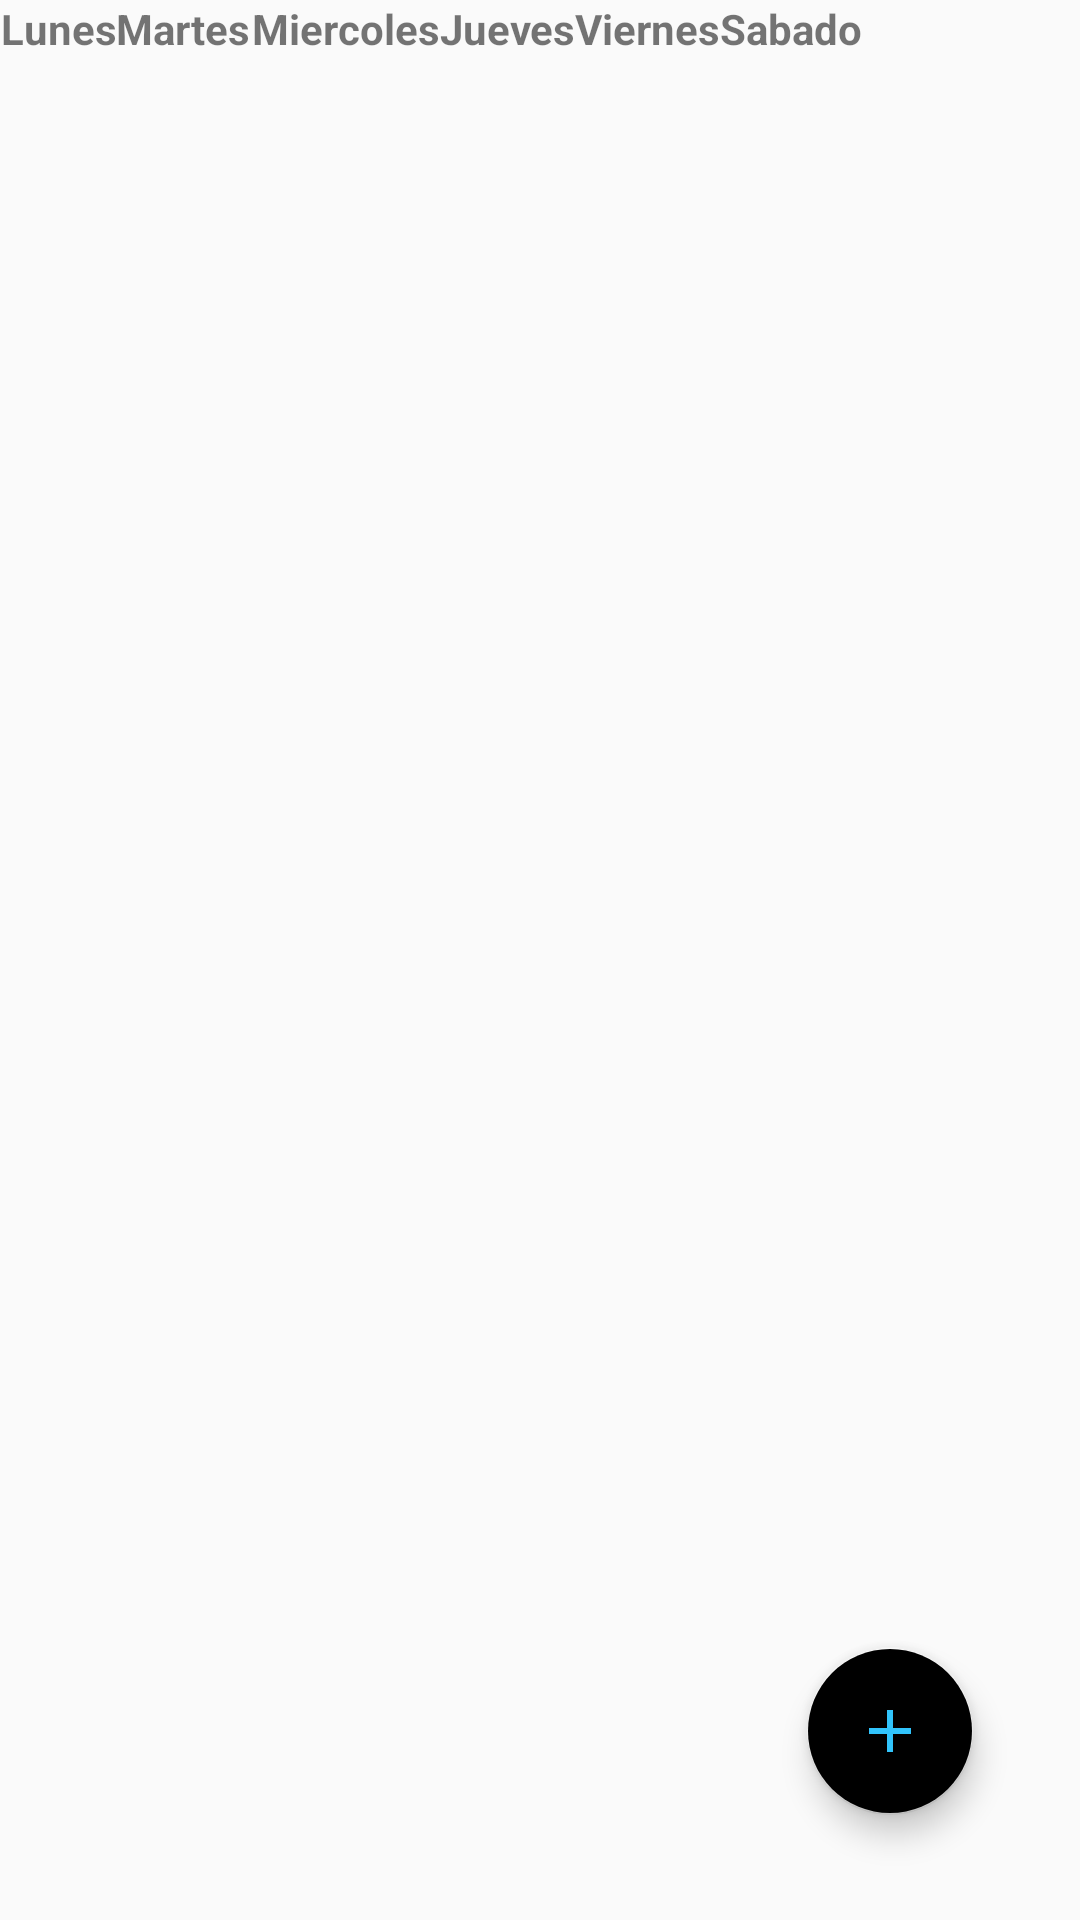

Named icons in this screenshot (1080w x 1920h) and their centers, point (x, y):
add: point (891, 1732)
